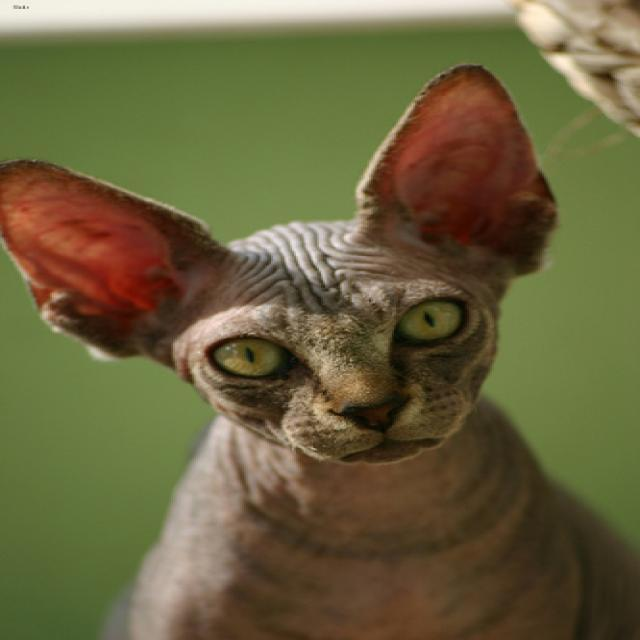Sphynx: (0, 60, 568, 471)
